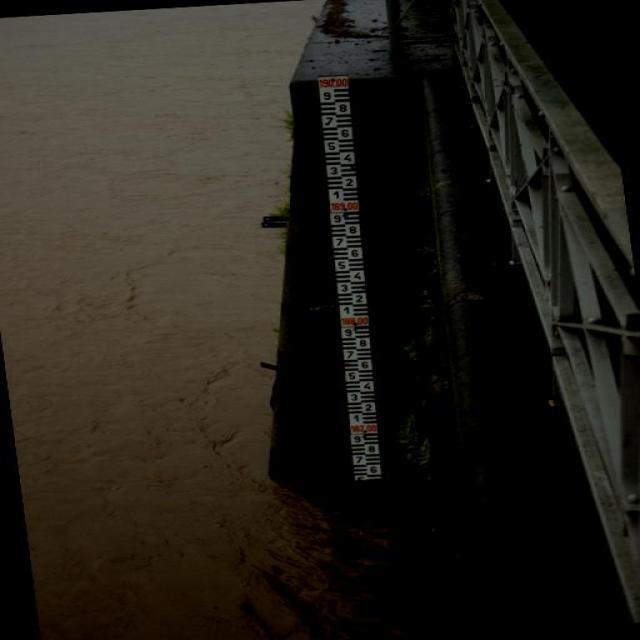flood: (0, 4, 304, 639)
